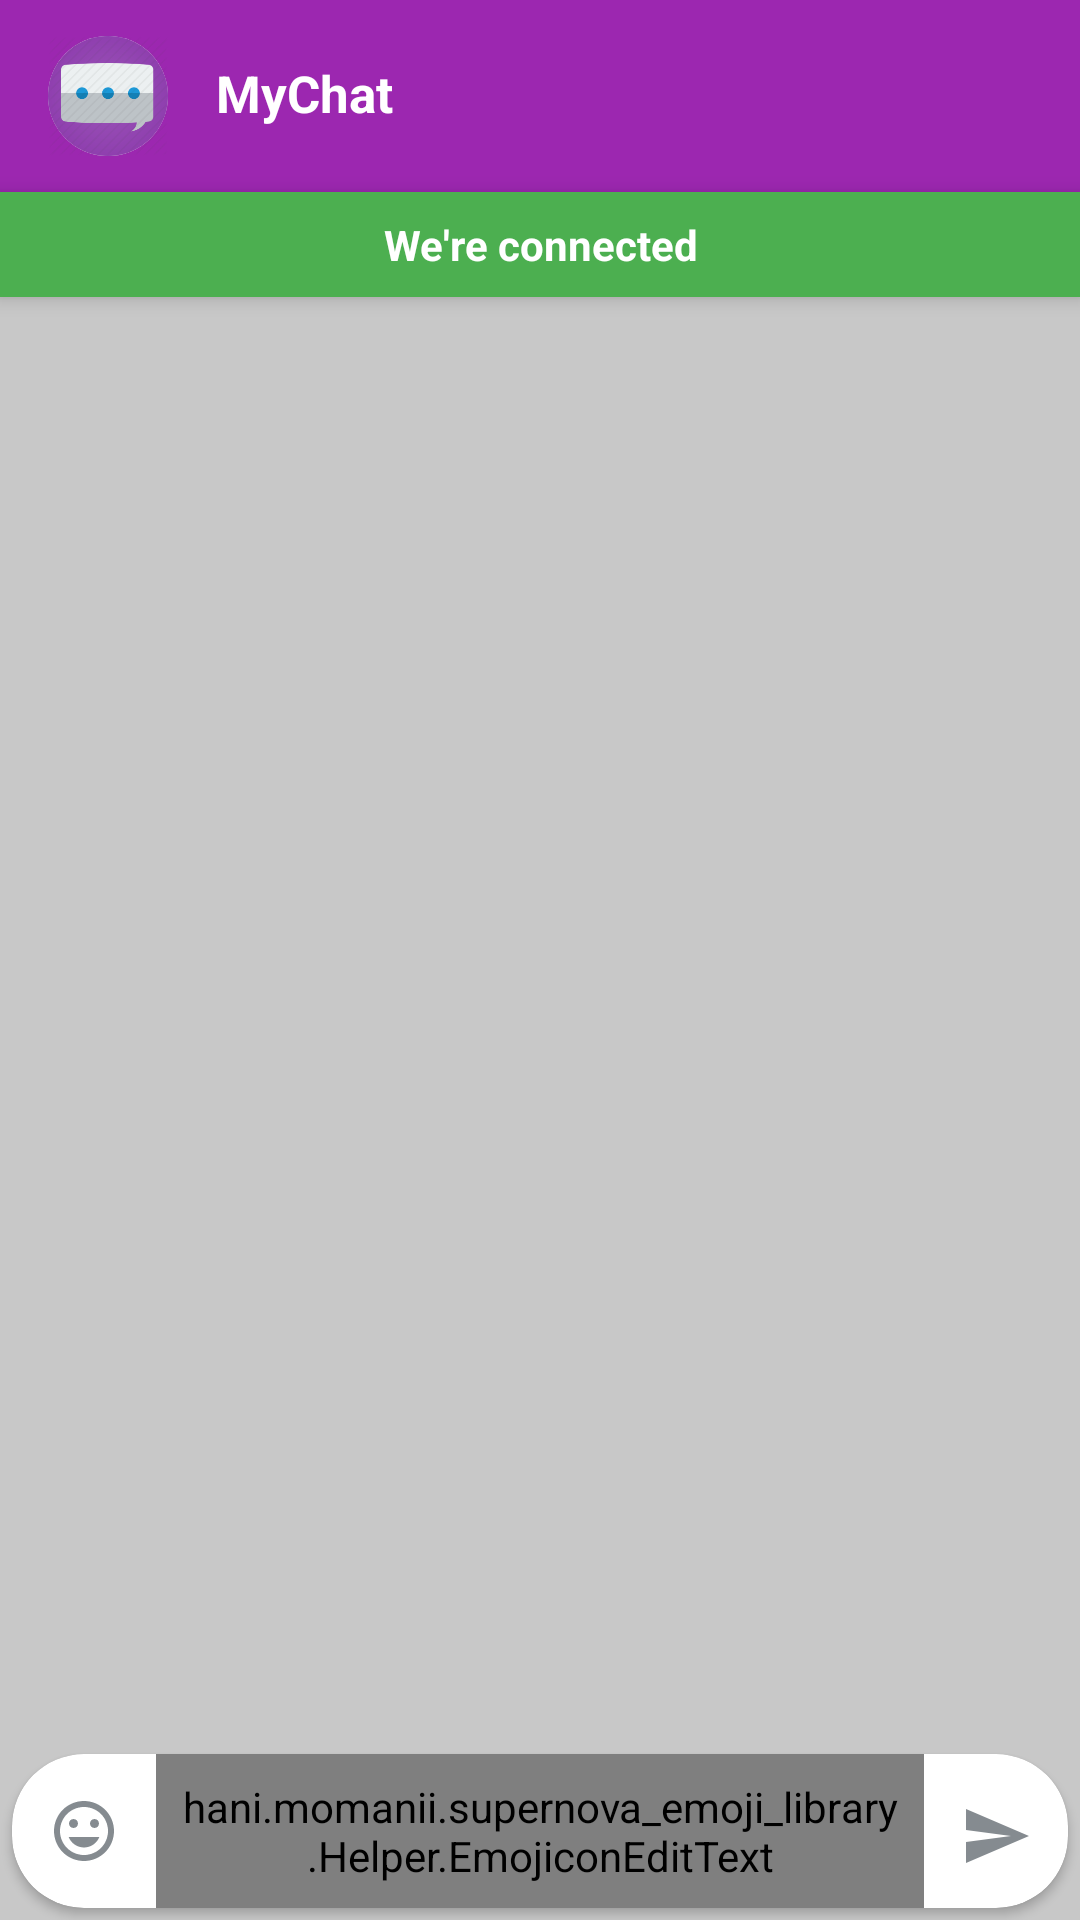

Point at icon controls on the screen. Image size 1080px x 1920px, points as (x=x, y=y).
Send Message: (x=996, y=1836)
Use Emoticons: (x=84, y=1831)
